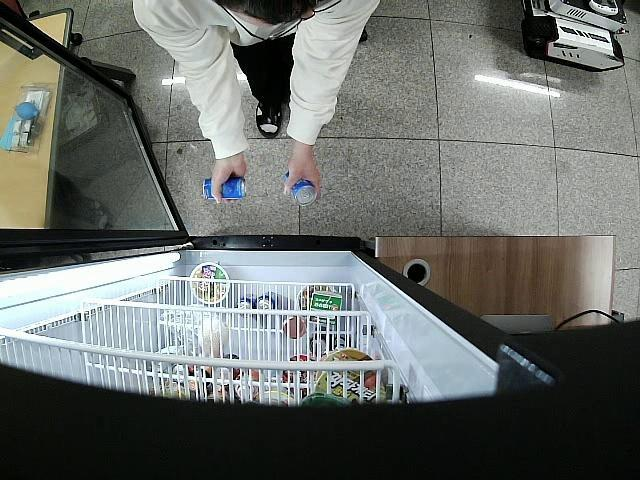15_letsbe: (283, 172, 317, 206), (202, 178, 246, 199)
